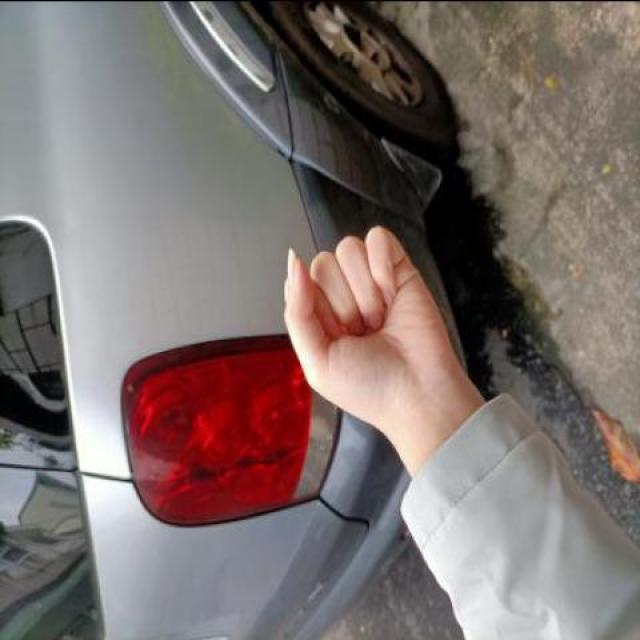fist: (280, 220, 445, 420)
